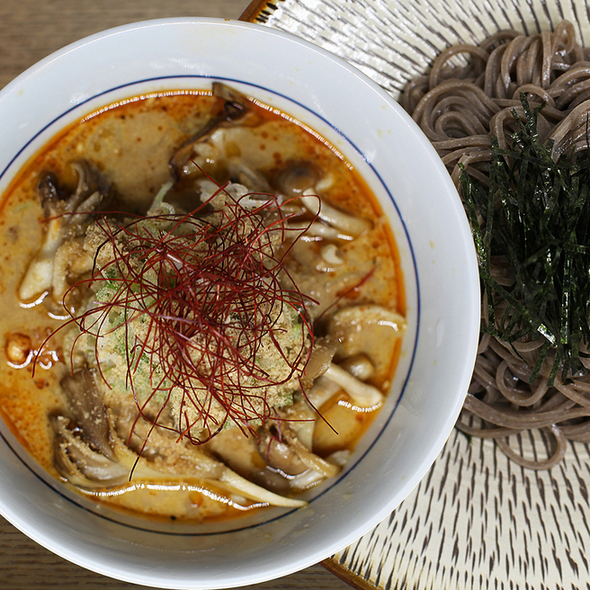Soba: (410, 25, 590, 169), (461, 328, 590, 458)
